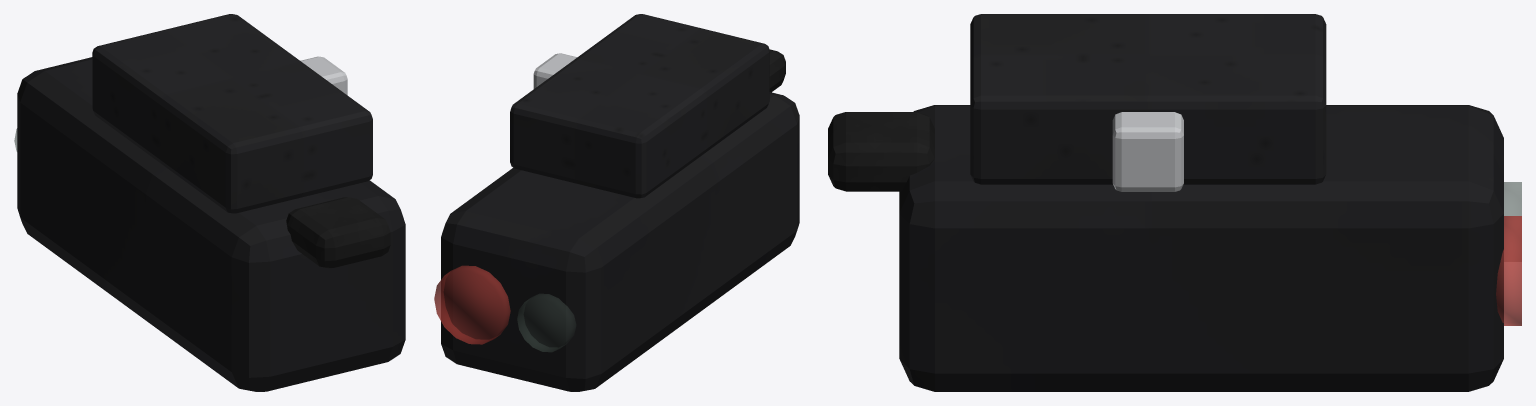
The model's file is laser_sight.glb.
3 renders of one model, left to right at view 1: azimuth 30°, elevation 25°; view 2: azimuth 150°, elevation 25°; view 3: azimuth 270°, elevation 25°, orthographic. The views are drawn at different scales.
Visible parts, largest first — view 1: housing, l_clamp, switch, l_screw; view 2: housing, l_clamp, lens, lens2, l_screw, switch; view 3: housing, l_clamp, switch, l_screw, lens, lens2.
Part boxes in pixels (left/top/right/bottom): housing: left=17, top=57, right=405, bottom=391; l_clamp: left=92, top=14, right=372, bottom=213; switch: left=286, top=197, right=390, bottom=268; l_screw: left=300, top=56, right=347, bottom=95; housing: left=441, top=92, right=799, bottom=391; l_clamp: left=510, top=14, right=769, bottom=198; lens: left=434, top=265, right=510, bottom=344; lens2: left=517, top=294, right=575, bottom=352; l_screw: left=533, top=53, right=576, bottom=88; switch: left=769, top=49, right=785, bottom=92; housing: left=899, top=105, right=1503, bottom=391; l_clamp: left=970, top=14, right=1326, bottom=184; switch: left=828, top=112, right=934, bottom=191; l_screw: left=1112, top=112, right=1183, bottom=191; lens: left=1496, top=216, right=1521, bottom=325; lens2: left=1504, top=182, right=1521, bottom=215.
Size of the model in its own units: 0.031 by 0.037 by 0.078.
Materials: 6 (3 with a texture image).
